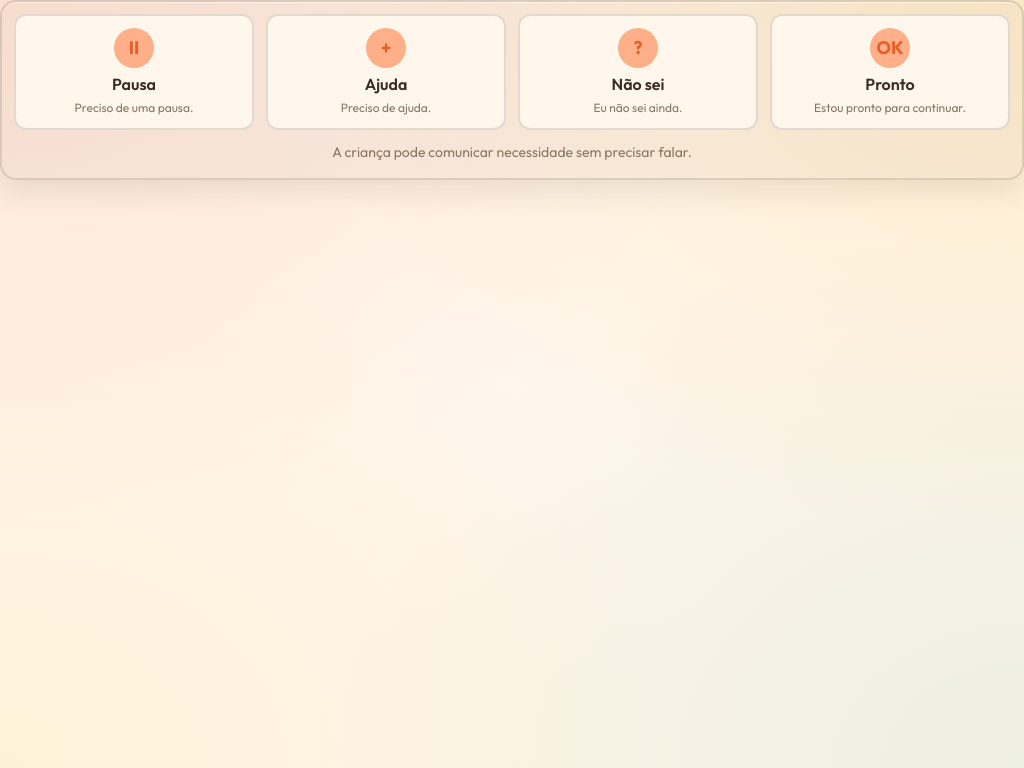
Test: PainelComunicacao › tambem solicita apoio quando a crianca comunica que nao sabe
Click the button named "Não sei. Eu não sei ainda.": {"x": 638, "y": 72} [518, 14, 758, 130]
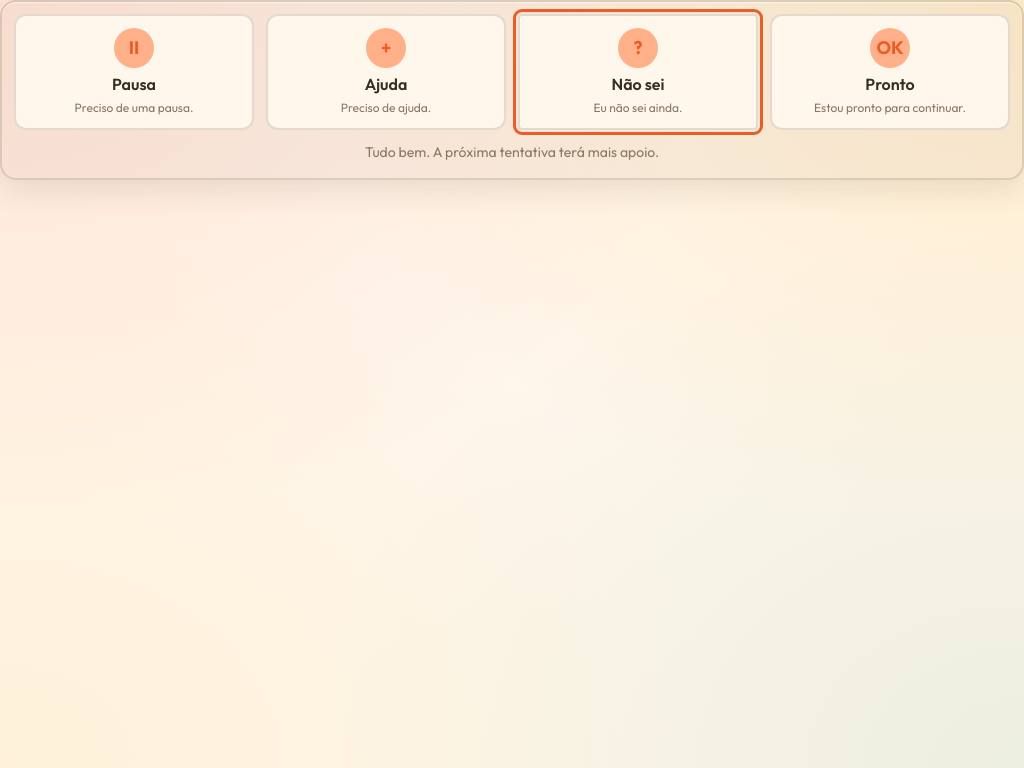
Expected: the text "Tudo bem. A próxima tentativa terá mais apoio." is shown, [365, 143, 659, 161]
